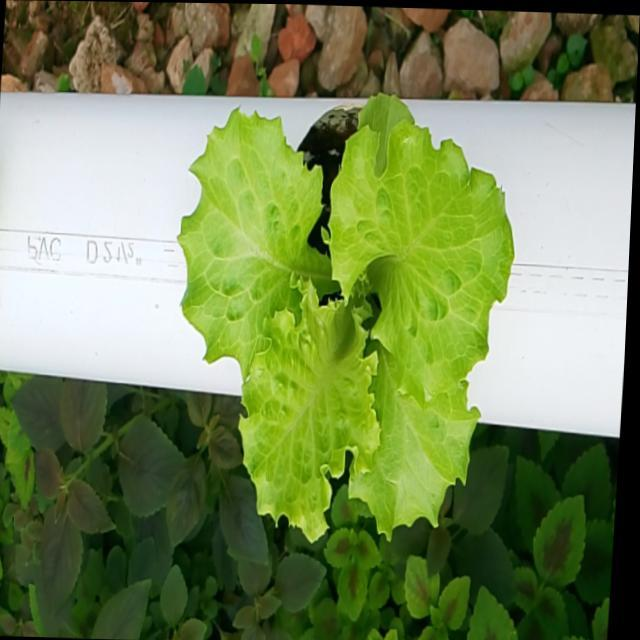Baby: (175, 97, 512, 546)
